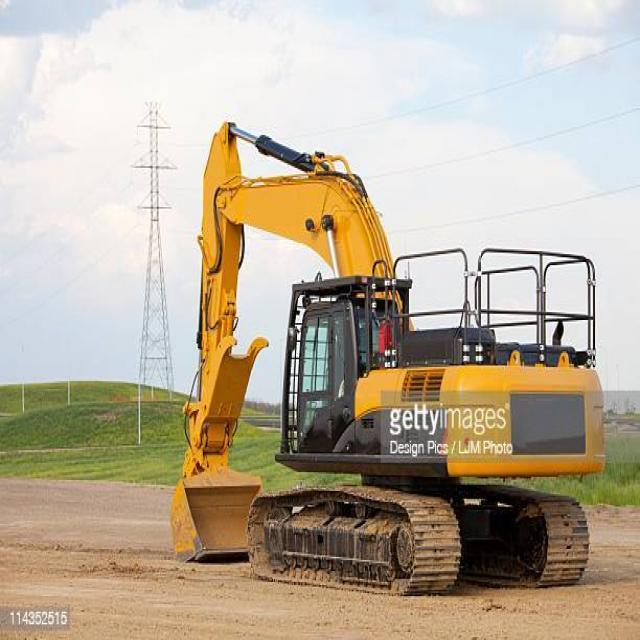C_E: (168, 119, 610, 598)
